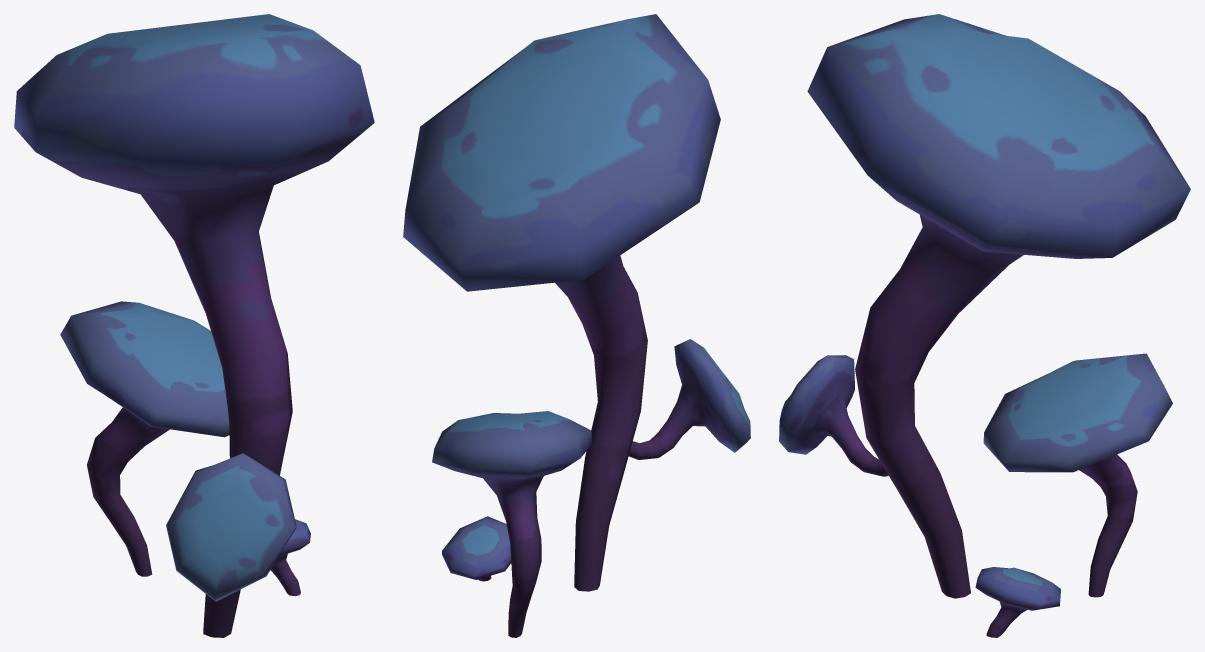
Rendered from Veg_04.FBX.
The picture shows the model from 3 angles, left to right: view 1: azimuth 30°, elevation 25°; view 2: azimuth 150°, elevation 25°; view 3: azimuth 270°, elevation 25°; orthographic projection. The views are drawn at different scales.
Parts seen in each view (by area): view 1: Veg_004; view 2: Veg_004; view 3: Veg_004.
Part boxes in pixels (<box>): Veg_004: <box>14,14,374,637</box>; Veg_004: <box>403,14,750,637</box>; Veg_004: <box>779,14,1190,637</box>.
Size of the model in its own units: 27.32 by 50.22 by 33.71.
